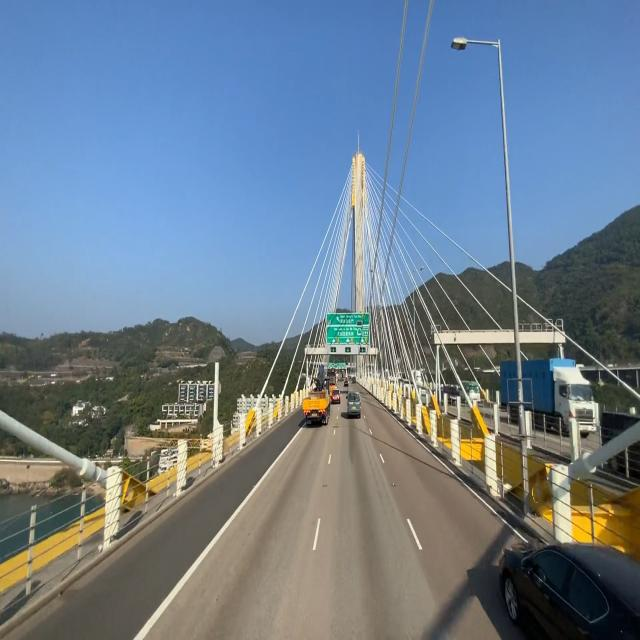Car: (495, 530, 640, 639), (301, 362, 332, 430), (344, 387, 364, 420)
